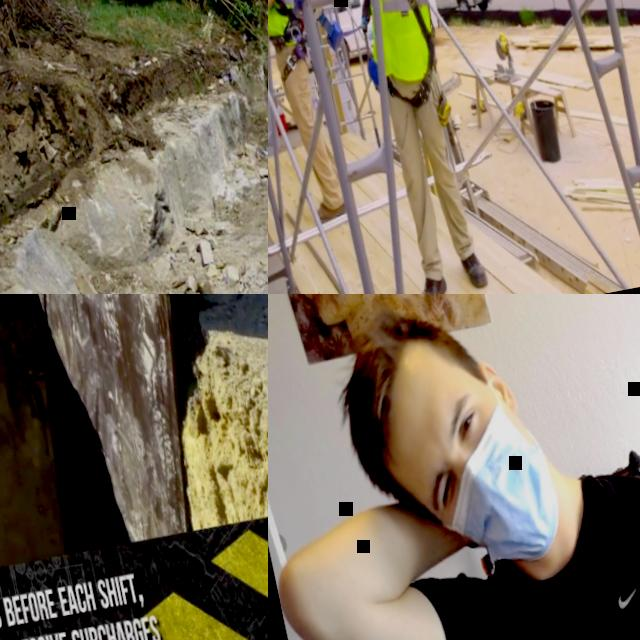Mask: (422, 399, 566, 573)
NO-Hardhat: (323, 305, 450, 489)
NO-Safety Vest: (462, 472, 640, 640)
Person: (268, 294, 640, 640), (300, 0, 496, 294), (268, 0, 345, 231)
Safety Vest: (342, 0, 446, 86)
vehicle: (291, 0, 443, 66), (424, 0, 497, 18)
